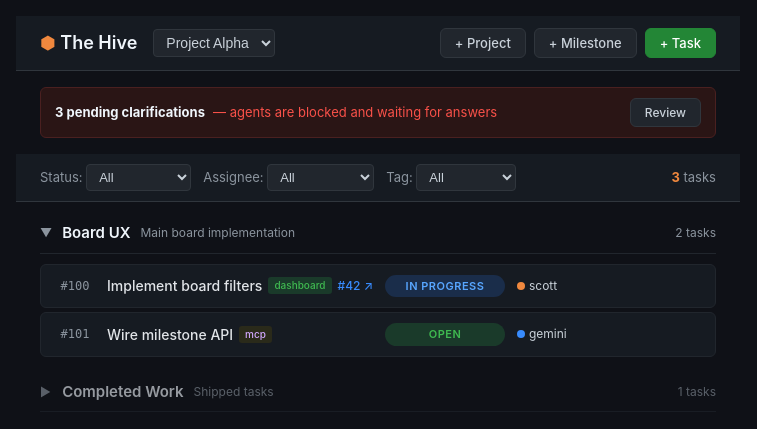
Test: Board View › filters by assignee using assigned_to payload field
Check: the link "Implement board filters" is shown, box top-left (107, 275), bottom-right (262, 296)
Check: the link "Wire milestone API" is shown, box top-left (107, 324), bottom-right (233, 345)
Select "scott" in the dropdown labelled "Assignee:" at point(321, 178), box top-left (267, 164), bottom-right (374, 191)
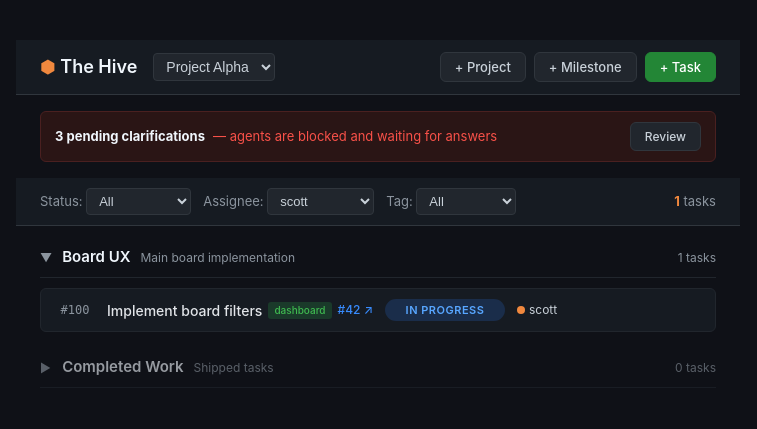
Check: the link "Implement board filters" is shown, box top-left (107, 300), bottom-right (262, 320)
Check: the link "Wire milestone API" is gone
